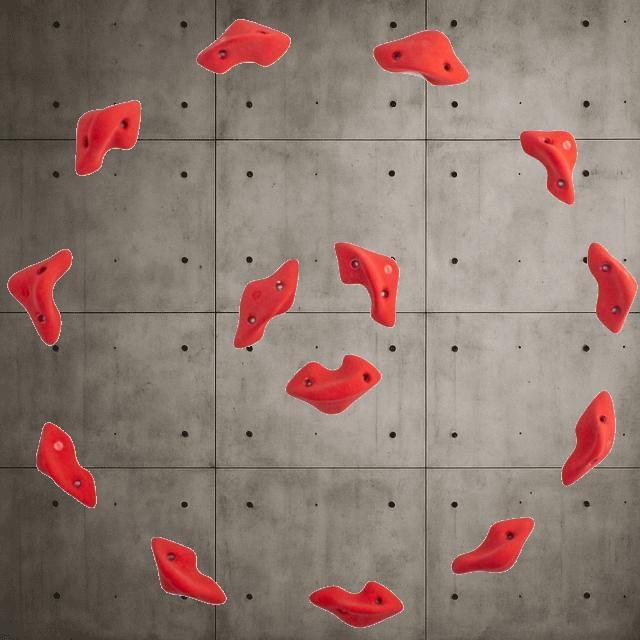Pinch: (6, 248, 72, 344), (232, 257, 300, 349), (285, 354, 381, 414), (334, 240, 398, 328), (372, 28, 468, 86), (560, 389, 616, 486), (35, 422, 97, 508), (196, 18, 290, 74), (150, 536, 226, 604), (74, 99, 140, 175), (450, 516, 534, 574), (308, 580, 404, 628), (586, 241, 636, 333), (519, 128, 577, 204)
